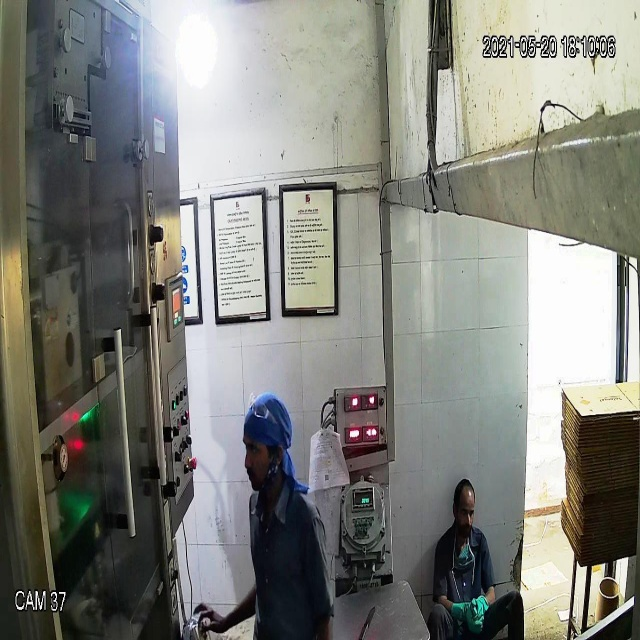Sin_gafas: (241, 436, 277, 465), (448, 499, 478, 526)
